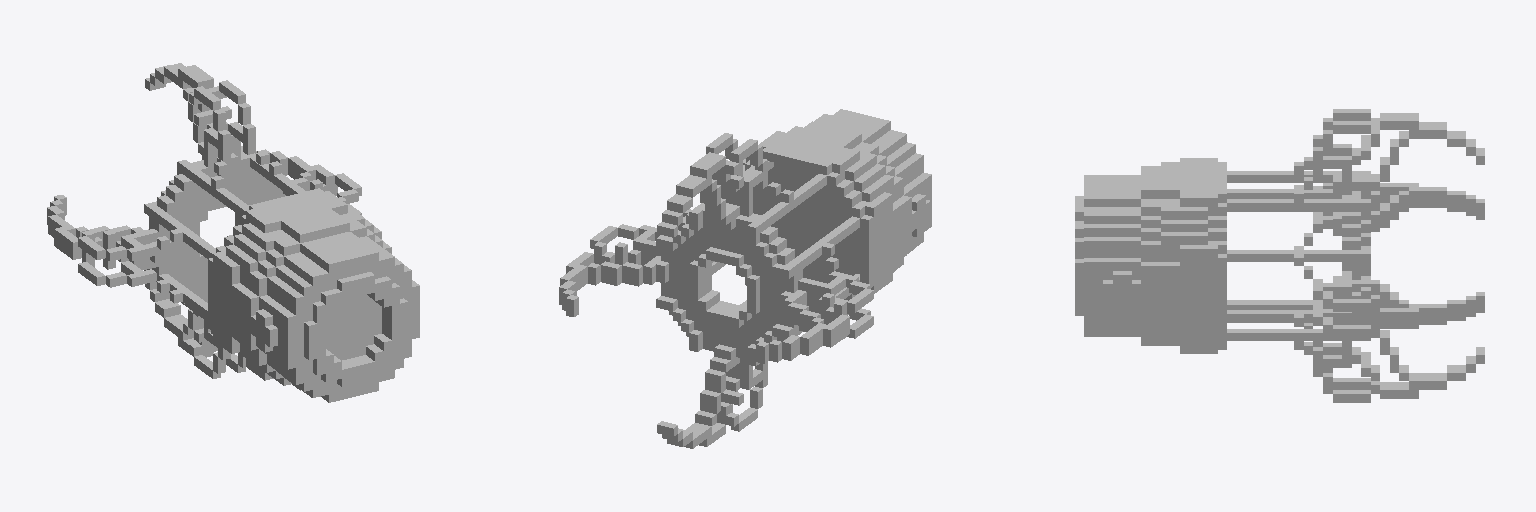
File: Repair_gun-0.obj
3 renders of one model, left to right at view 1: azimuth 30°, elevation 25°; view 2: azimuth 150°, elevation 25°; view 3: azimuth 270°, elevation 25°, orthographic.
Parts seen in each view (by area): view 1: ремпушка-0; view 2: ремпушка-0; view 3: ремпушка-0.
Part boxes in pixels (x1,y1,x2,y2): ремпушка-0: (47,63,419,402); ремпушка-0: (559,109,931,448); ремпушка-0: (1075,109,1484,402).
Size of the model in its own units: 32 by 32 by 43.